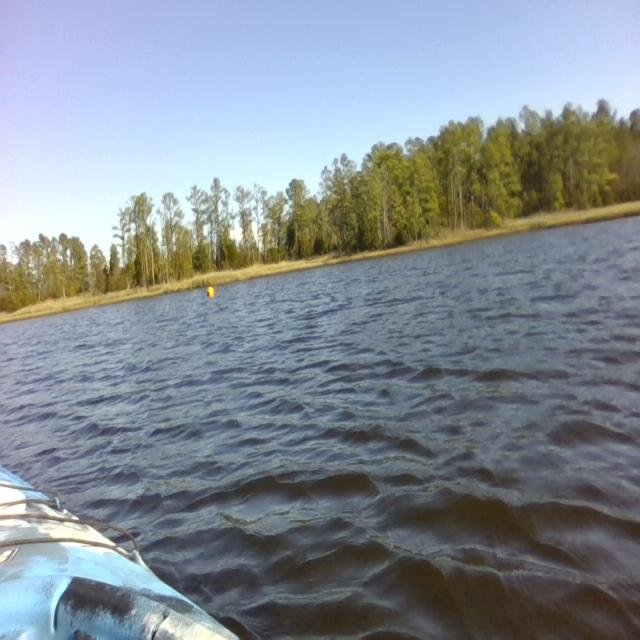Buoy: (204, 280, 218, 304)
